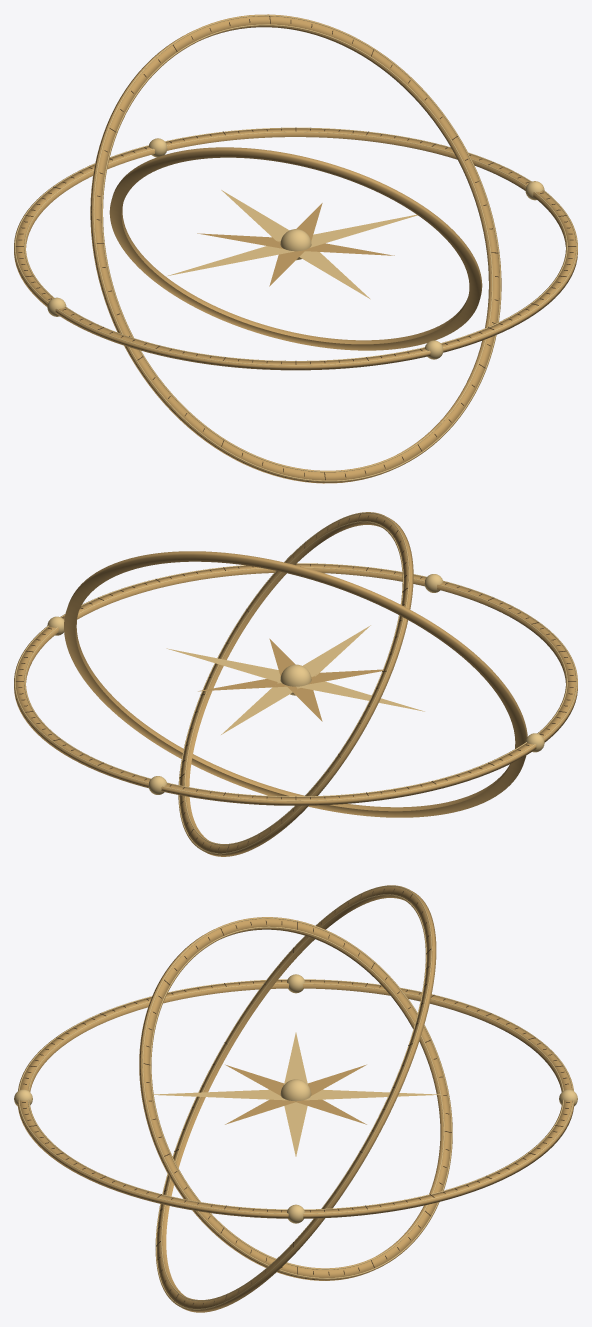
The model's file is astrolabe.glb.
3 views of the same model, one above another, from view 1: azimuth 30°, elevation 25°; view 2: azimuth 150°, elevation 25°; view 3: azimuth 270°, elevation 25° (orthographic).
Parts seen in each view (by area): view 1: AstrolabeRing_1, AstrolabeRing_0, AstrolabeRing_2, Ring_Edge.003, Ring_Edge.002, Ring_Edge.001, Ring_Edge, Compass_Ray.004, Compass_Ray, Compass_Ray.006, Compass_Ray.002; view 2: AstrolabeRing_0, AstrolabeRing_1, AstrolabeRing_2, Ring_Edge.001, Ring_Edge, Ring_Edge.005, Ring_Edge.004, Compass_Ray, Compass_Ray.004, Compass_Ray.002, Compass_Ray.006, Compass_Center (+2 smaller); view 3: AstrolabeRing_0, AstrolabeRing_2, AstrolabeRing_1, Ring_Edge.001, Ring_Edge, Ring_Edge.005, Ring_Edge.004, Ring_Edge.003, Ring_Edge.002, Compass_Ray.006, Compass_Ray.002, Compass_Ray (+2 smaller).
Boxes of the visible parts, <box> form: AstrolabeRing_1: <box>90,14,501,483</box>; AstrolabeRing_0: <box>14,128,577,370</box>; AstrolabeRing_2: <box>109,147,482,350</box>; Ring_Edge.003: <box>93,15,500,481</box>; Ring_Edge.002: <box>101,24,492,472</box>; Ring_Edge.001: <box>14,127,577,365</box>; Ring_Edge: <box>24,131,567,361</box>; Compass_Ray.004: <box>166,246,294,276</box>; Compass_Ray: <box>310,214,417,247</box>; Compass_Ray.006: <box>299,251,370,299</box>; Compass_Ray.002: <box>221,190,289,241</box>; AstrolabeRing_0: <box>14,563,577,805</box>; AstrolabeRing_1: <box>64,551,527,817</box>; AstrolabeRing_2: <box>178,512,413,856</box>; Ring_Edge.001: <box>14,563,577,801</box>; Ring_Edge: <box>24,567,567,796</box>; Ring_Edge.005: <box>178,512,409,854</box>; Ring_Edge.004: <box>184,521,403,845</box>; Compass_Ray: <box>166,648,281,683</box>; Compass_Ray.004: <box>296,681,424,711</box>; Compass_Ray.002: <box>221,682,300,734</box>; Compass_Ray.006: <box>303,625,370,676</box>; Compass_Center: <box>280,664,311,695</box>; AstrolabeRing_0: <box>17,979,574,1218</box>; AstrolabeRing_2: <box>139,917,452,1280</box>; AstrolabeRing_1: <box>155,885,436,1312</box>; Ring_Edge.001: <box>18,979,573,1213</box>; Ring_Edge: <box>28,983,563,1209</box>; Ring_Edge.005: <box>142,917,452,1278</box>; Ring_Edge.004: <box>150,926,444,1269</box>; Ring_Edge.003: <box>155,885,432,1309</box>; Ring_Edge.002: <box>161,894,426,1301</box>; Compass_Ray.006: <box>154,1089,287,1100</box>; Compass_Ray.002: <box>304,1089,441,1100</box>; Compass_Ray: <box>284,1102,307,1156</box>.
Bounding box in the file's own units: 0.238 × 0.1672 × 0.238.
